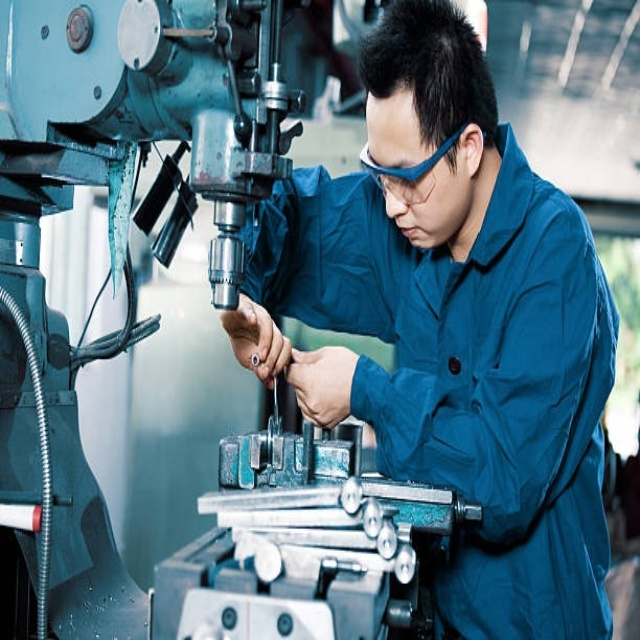Gafas: (360, 122, 481, 196)
Sin_guantes: (282, 343, 362, 431), (219, 289, 291, 383)
Sin_mascara: (394, 215, 429, 253)
